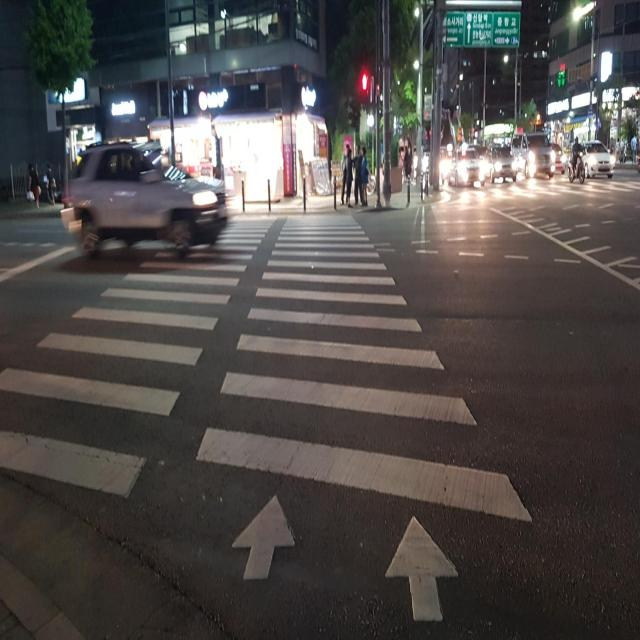빨간불: (361, 68, 370, 108)
횡단보도: (0, 206, 537, 628)
